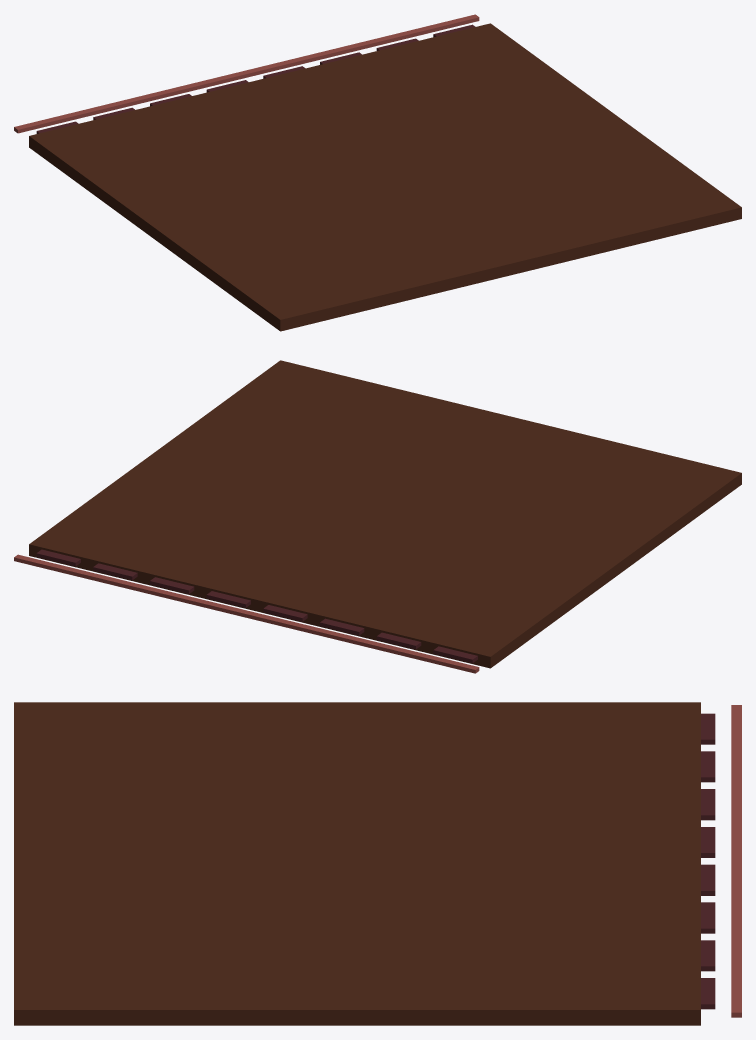
The model's file is dancefloor.glb.
The picture shows the model from 3 angles, top to bottom: view 1: azimuth 30°, elevation 25°; view 2: azimuth 150°, elevation 25°; view 3: azimuth 270°, elevation 25°; orthographic projection. The views are drawn at different scales.
Parts seen in each view (by area): view 1: body, move_curtain; view 2: body, move_curtain; view 3: body, move_curtain.
Part boxes in pixels (<box>): body: <box>14,14,741,331</box>; move_curtain: <box>36,24,475,133</box>; body: <box>14,360,741,673</box>; move_curtain: <box>36,549,477,663</box>; body: <box>14,702,741,1025</box>; move_curtain: <box>701,713,715,1009</box>.
Bounding box in the file's own units: 2 × 0.048 × 2.
1 material, 1 textured.
